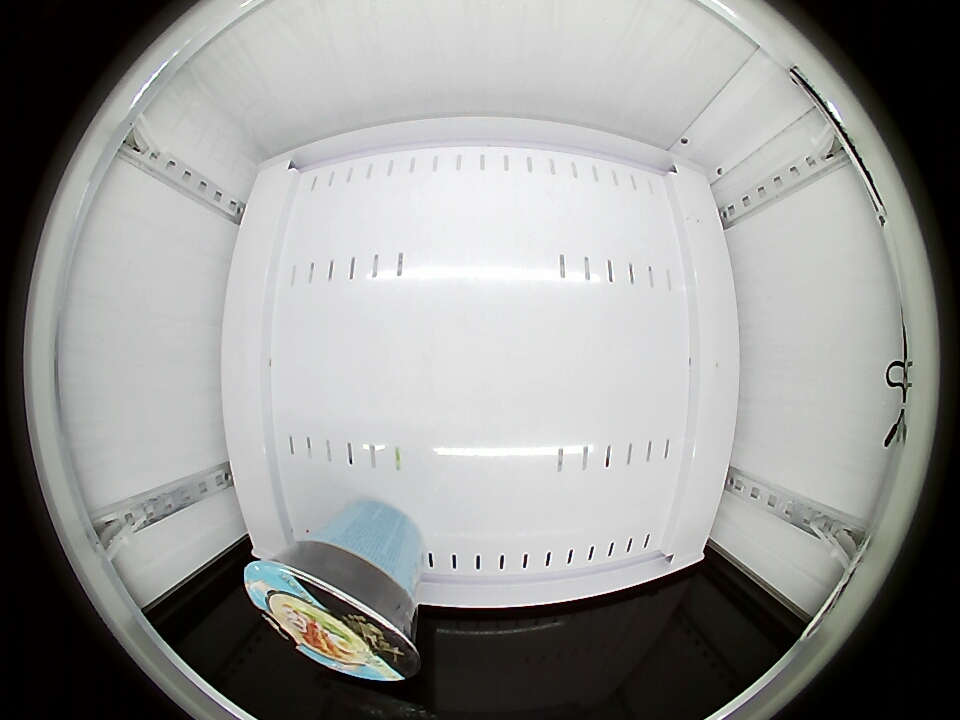tangdaren3: (243, 543, 420, 682)
